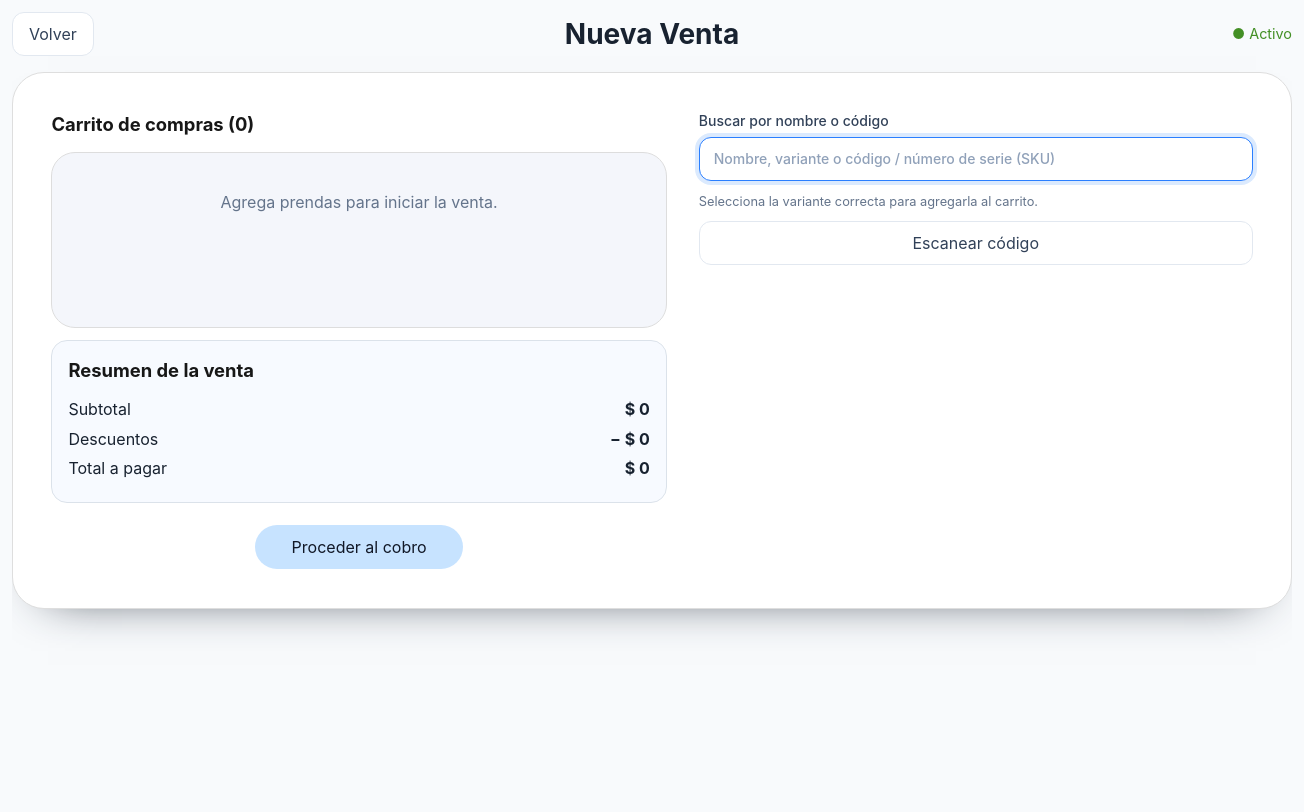
Test: SalesPage sequential flow › narrows suggestions by name and variant terms in any order without accents
The width and height of the screenshot is (1304, 812).
Type "jean" into the field labelled "Buscar por nombre o código". click: (976, 159)
box: [699, 137, 1253, 181]
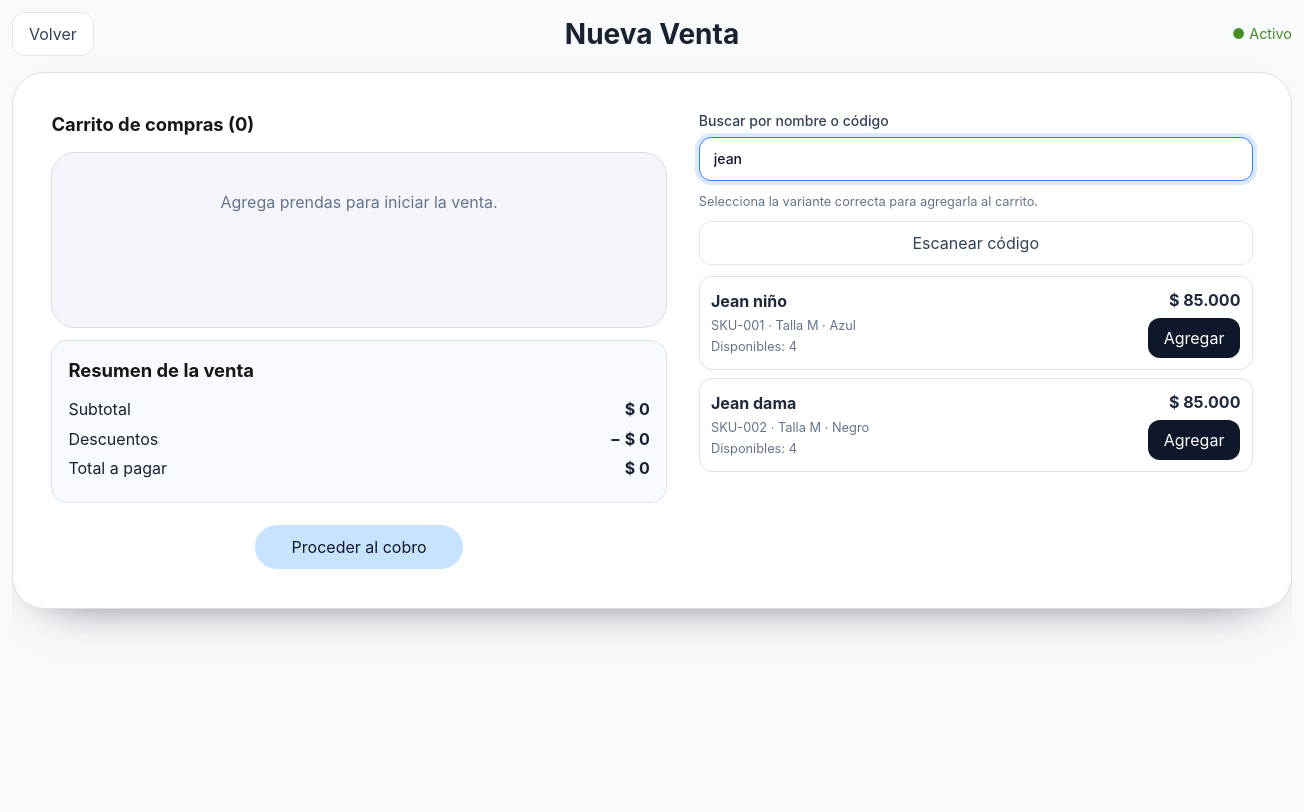
Result: the number of buttons "Agregar" is 2 at [1148, 318, 1240, 358]; [1148, 420, 1240, 460]
Press Enter in the field labelled "Buscar por nombre o código", box [699, 137, 1253, 181]
Expected: the text "Agrega prendas para iniciar la venta." is shown, [220, 192, 498, 212]
Replace the text in the field labelled "Buscar por nombre o código" with "azul nino jean". click: (976, 159)
box: [699, 137, 1253, 181]
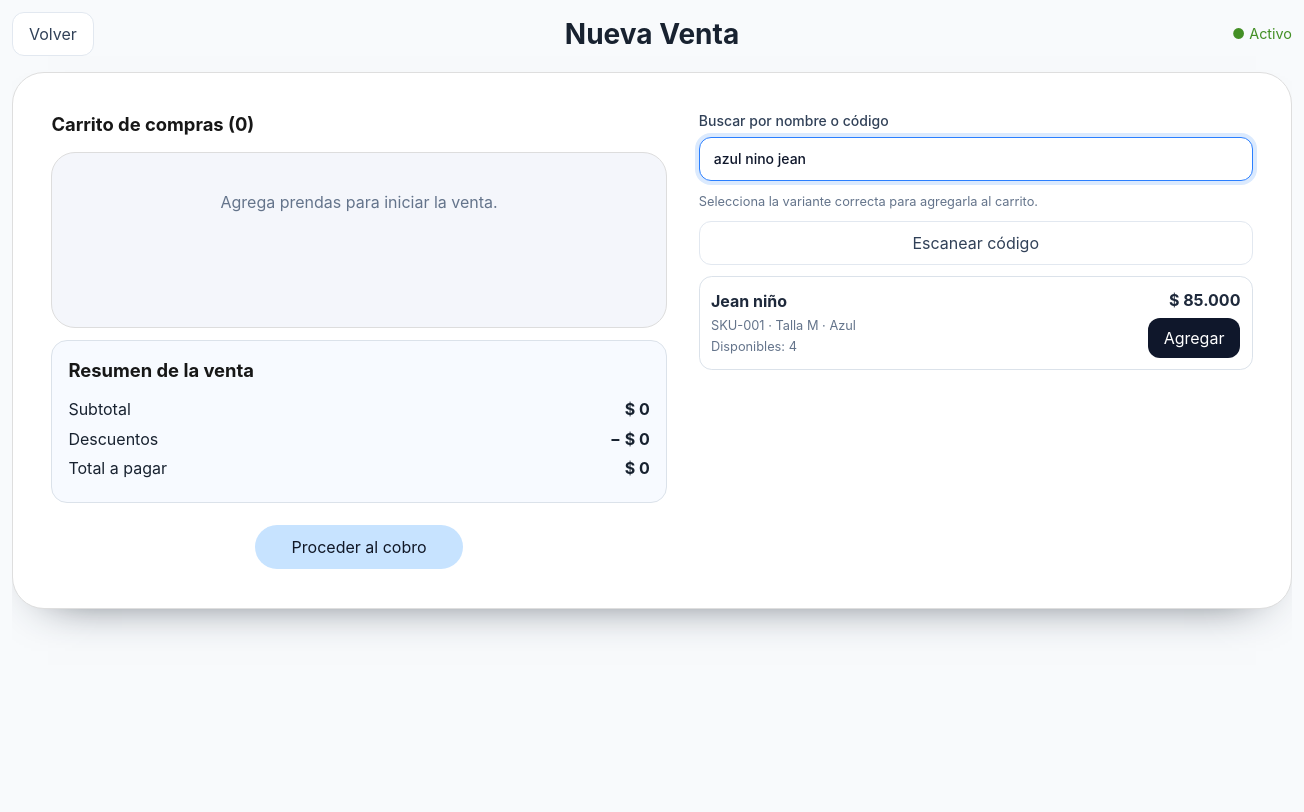
Result: the text "Jean niño" is shown at [711, 291, 787, 311]
Result: the number of buttons "Agregar" is 1 at [1148, 318, 1240, 358]
Result: the text "Jean dama" is gone
